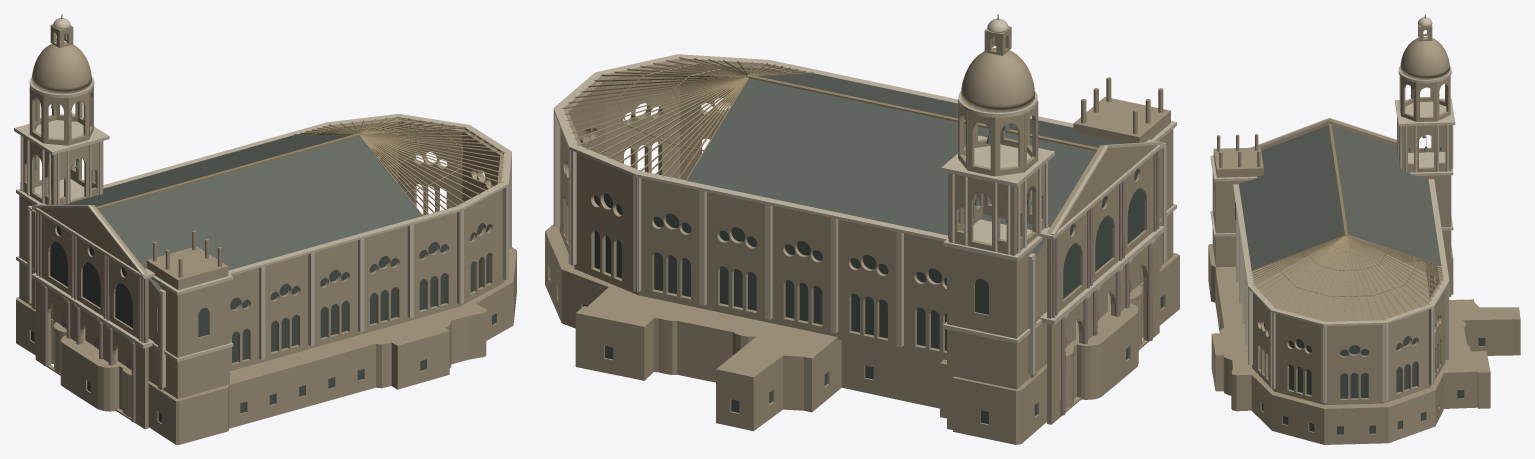
Rendered from malaga-cathedral-near.glb.
The picture shows the model from 3 angles, left to right: view 1: azimuth 30°, elevation 25°; view 2: azimuth 150°, elevation 25°; view 3: azimuth 270°, elevation 25°; orthographic projection. The views are drawn at different scales.
Parts seen in each view (by area): view 1: malaga-cathedral-0-stone, malaga-cathedral-0-roof, malaga-cathedral-0-trim, malaga-cathedral-0-glass, malaga-cathedral-0-timber, malaga-cathedral-0-marble; view 2: malaga-cathedral-0-stone, malaga-cathedral-0-roof, malaga-cathedral-0-trim, malaga-cathedral-0-glass, malaga-cathedral-0-timber, malaga-cathedral-0-marble, malaga-cathedral-0-purlin; view 3: malaga-cathedral-0-stone, malaga-cathedral-0-roof, malaga-cathedral-0-trim, malaga-cathedral-0-timber, malaga-cathedral-0-glass, malaga-cathedral-0-purlin.
Boxes of the visible parts, <box> form: malaga-cathedral-0-stone: <box>16,24,516,444</box>; malaga-cathedral-0-roof: <box>29,135,421,291</box>; malaga-cathedral-0-trim: <box>14,18,511,387</box>; malaga-cathedral-0-glass: <box>31,223,495,422</box>; malaga-cathedral-0-timber: <box>96,116,505,216</box>; malaga-cathedral-0-marble: <box>36,211,143,422</box>; malaga-cathedral-0-stone: <box>545,26,1179,444</box>; malaga-cathedral-0-roof: <box>687,73,1164,256</box>; malaga-cathedral-0-trim: <box>553,18,1176,374</box>; malaga-cathedral-0-glass: <box>582,169,1163,424</box>; malaga-cathedral-0-timber: <box>561,57,1098,181</box>; malaga-cathedral-0-marble: <box>1052,150,1159,415</box>; malaga-cathedral-0-purlin: <box>616,63,792,150</box>; malaga-cathedral-0-stone: <box>1208,21,1520,444</box>; malaga-cathedral-0-roof: <box>1239,125,1441,270</box>; malaga-cathedral-0-trim: <box>1210,17,1455,402</box>; malaga-cathedral-0-timber: <box>1251,124,1444,321</box>; malaga-cathedral-0-glass: <box>1235,202,1485,434</box>; malaga-cathedral-0-purlin: <box>1278,247,1415,297</box>.
Size of the model in its own units: 120 by 87 by 90.29.
